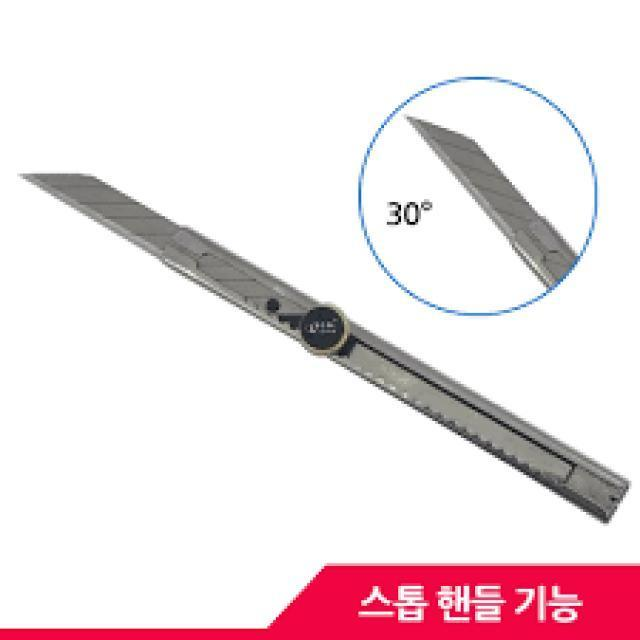cutter: (9, 151, 632, 528)
